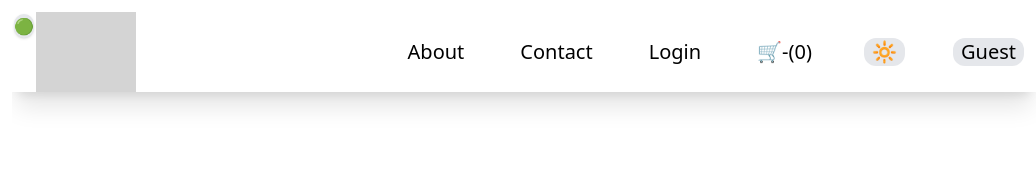
Scenario: Should render login button in the Header component
What coordinates should you click on to do the following:
click the button "🔆"
I would click on:
 (884, 52)
Its box is [872,38,897,66].
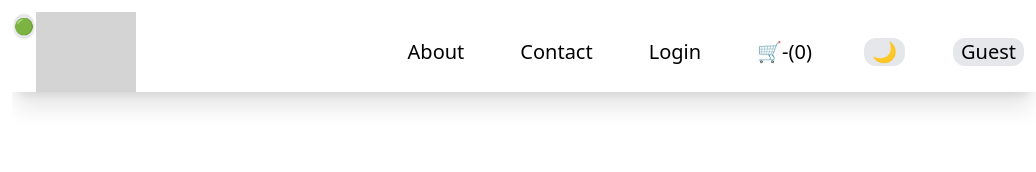
Expected: the button "🌙" is shown, [872,38,897,66]
